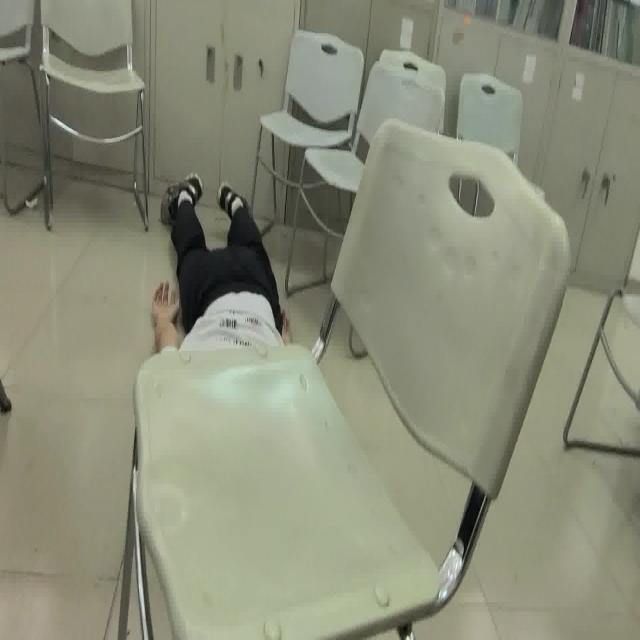Fall-Detected: (146, 169, 298, 356)
